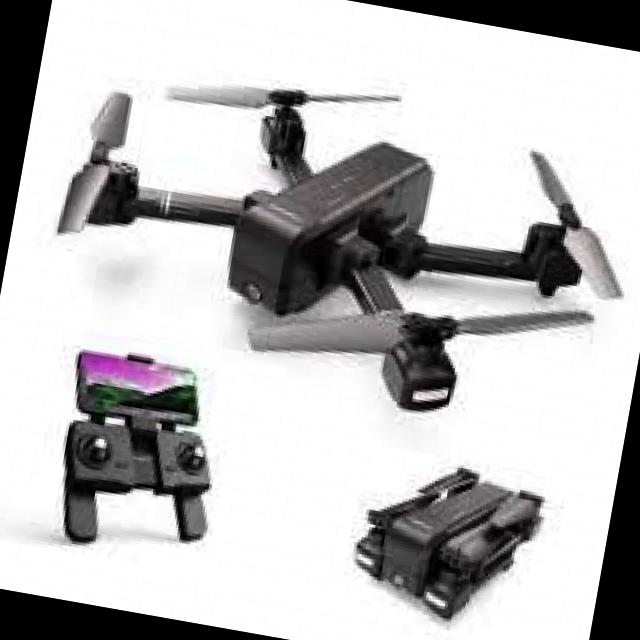drone: (0, 14, 640, 452)
